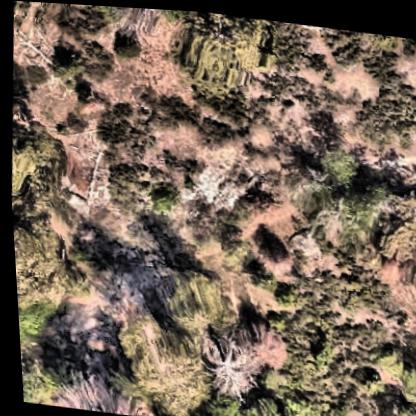tree-top: (164, 8, 289, 103), (286, 137, 394, 245), (108, 322, 206, 416), (6, 139, 66, 244), (154, 255, 230, 333), (368, 342, 416, 404), (16, 353, 71, 407), (14, 299, 57, 345), (228, 386, 286, 416), (141, 175, 181, 213), (45, 47, 85, 85), (109, 28, 141, 59)
